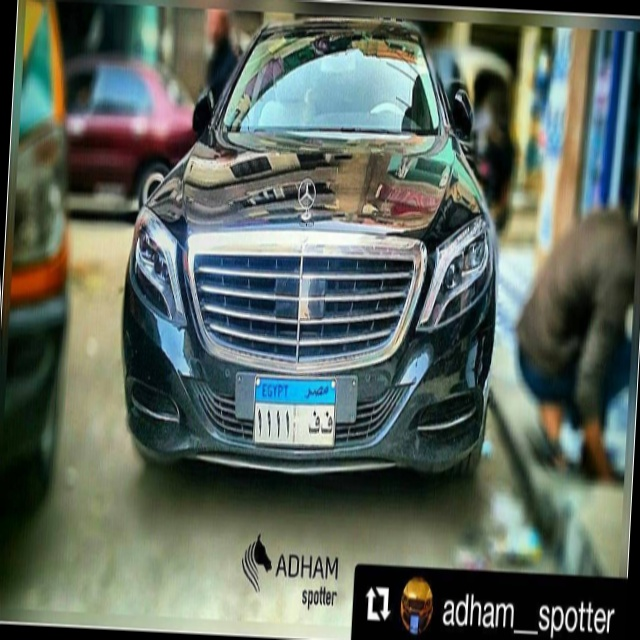License Plate: (247, 368, 343, 454)
